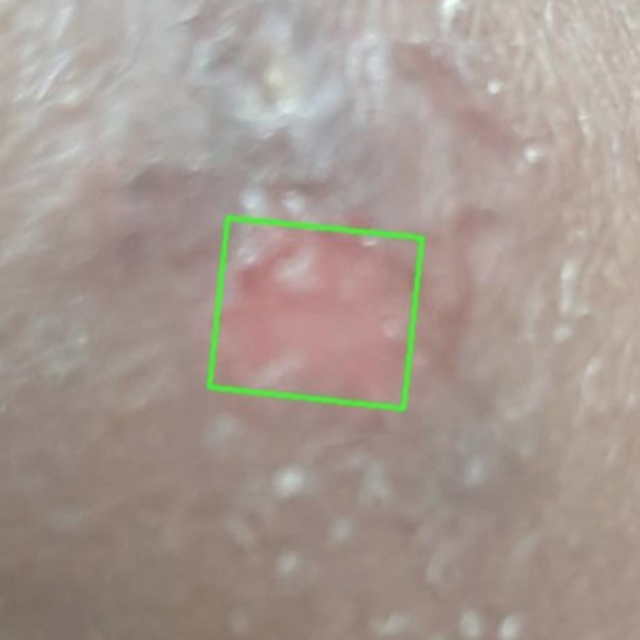Eczema: (209, 218, 421, 408)
